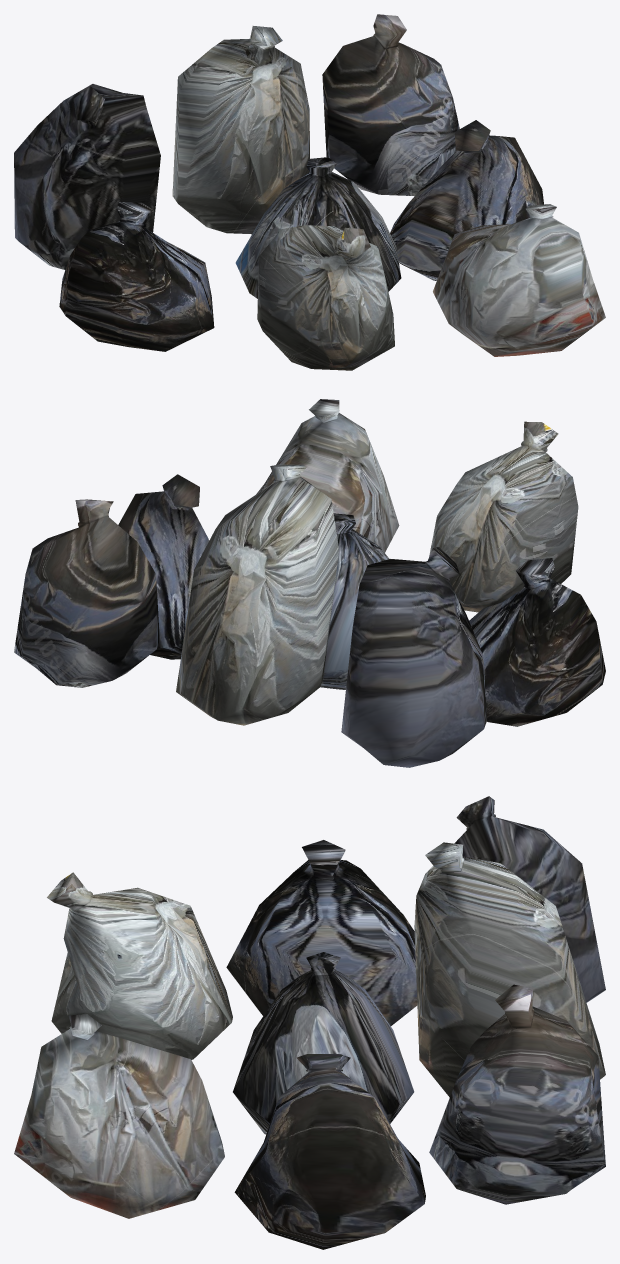
The model's file is quarantine_props.fbx.
3 views of the same model, one above another, from view 1: azimuth 30°, elevation 25°; view 2: azimuth 150°, elevation 25°; view 3: azimuth 270°, elevation 25° (orthographic). The views are drawn at different scales.
Visible parts, largest first — view 1: Icosphere.005, Icosphere.004, Icosphere.012, Icosphere.006, Icosphere.011, Icosphere.010, Icosphere.008, Icosphere.009; view 2: Icosphere.005, Icosphere.004, Icosphere.006, Icosphere.011, Icosphere.010, Icosphere.012, Icosphere.008, Icosphere.009; view 3: Icosphere.012, Icosphere.006, Icosphere.005, Icosphere.008, Icosphere.011, Icosphere.010, Icosphere.009, Icosphere.004.
Part boxes in pixels (bbox=[...]): Icosphere.005: bbox=[172, 26, 309, 234]; Icosphere.004: bbox=[14, 84, 160, 269]; Icosphere.012: bbox=[433, 204, 605, 356]; Icosphere.006: bbox=[322, 14, 459, 195]; Icosphere.011: bbox=[257, 225, 394, 370]; Icosphere.010: bbox=[59, 202, 214, 351]; Icosphere.008: bbox=[390, 120, 543, 280]; Icosphere.009: bbox=[235, 157, 401, 298]; Icosphere.005: bbox=[176, 464, 339, 725]; Icosphere.004: bbox=[341, 547, 486, 767]; Icosphere.006: bbox=[14, 499, 159, 687]; Icosphere.011: bbox=[429, 421, 578, 612]; Icosphere.010: bbox=[469, 558, 605, 726]; Icosphere.012: bbox=[256, 399, 399, 552]; Icosphere.008: bbox=[118, 474, 209, 659]; Icosphere.009: bbox=[320, 513, 389, 689]; Icosphere.012: bbox=[14, 1014, 224, 1218]; Icosphere.006: bbox=[429, 984, 605, 1204]; Icosphere.005: bbox=[414, 842, 605, 1097]; Icosphere.008: bbox=[234, 1054, 425, 1249]; Icosphere.011: bbox=[47, 872, 232, 1059]; Icosphere.010: bbox=[226, 840, 417, 1025]; Icosphere.009: bbox=[233, 952, 414, 1134]; Icosphere.004: bbox=[454, 796, 605, 1002].
Bounding box in the file's own units: 483 × 248 × 444.
Materials: 1 (1 with a texture image).
